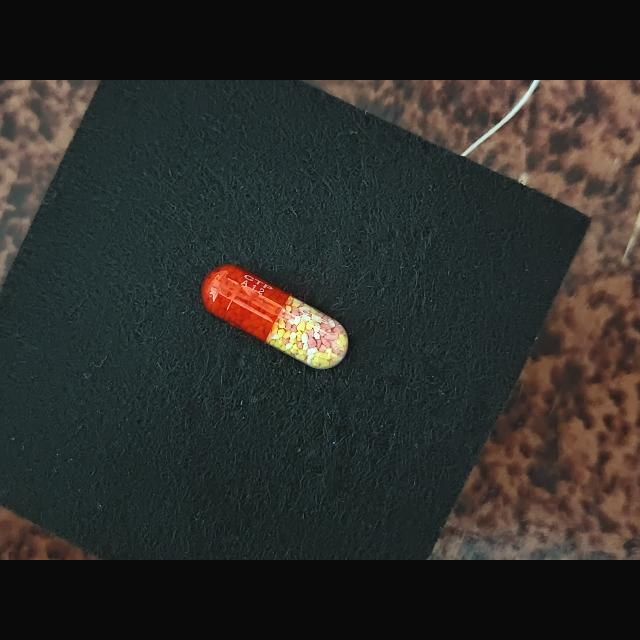Intact Capsule: (201, 264, 348, 370)
